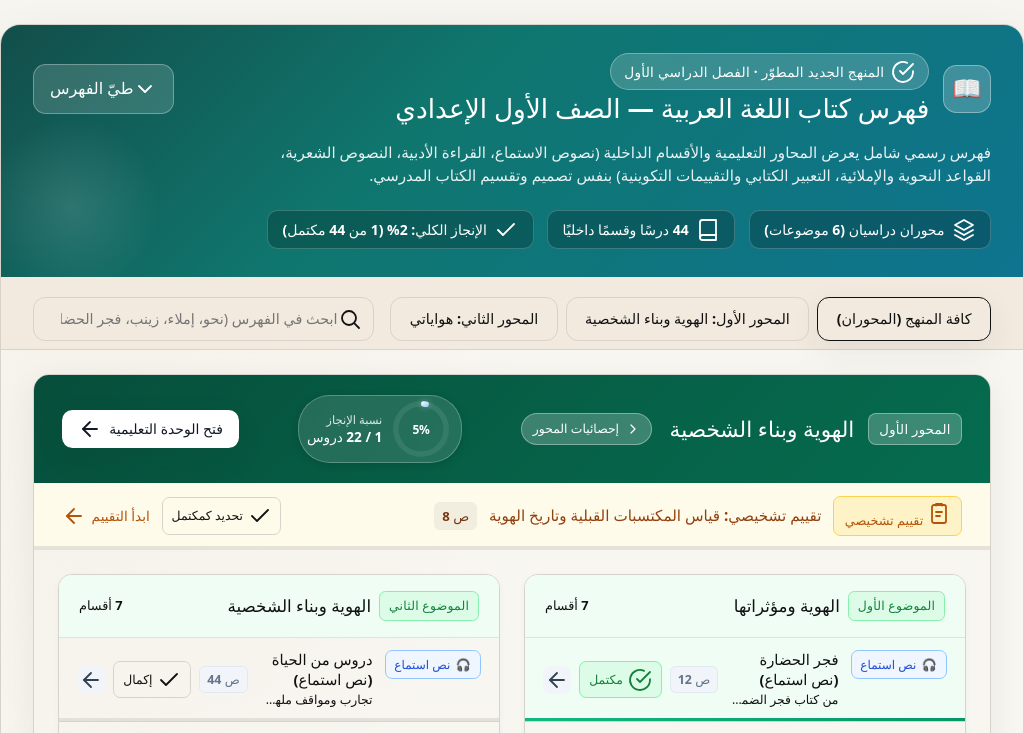
مخطط Recharts لتقدم إنجاز الدروس خلال آخر 7 أيام (Recharts Progress Line Chart) › يعكس المخطط البياني الدروس المكتملة حديثاً بدقة
The image size is (1024, 733).
Click the button with aria-label "انقر لعرض إحصائيات سريعة عن دروس المحور" at (915, 429), box [34,375,990,483]
(page scrolled)
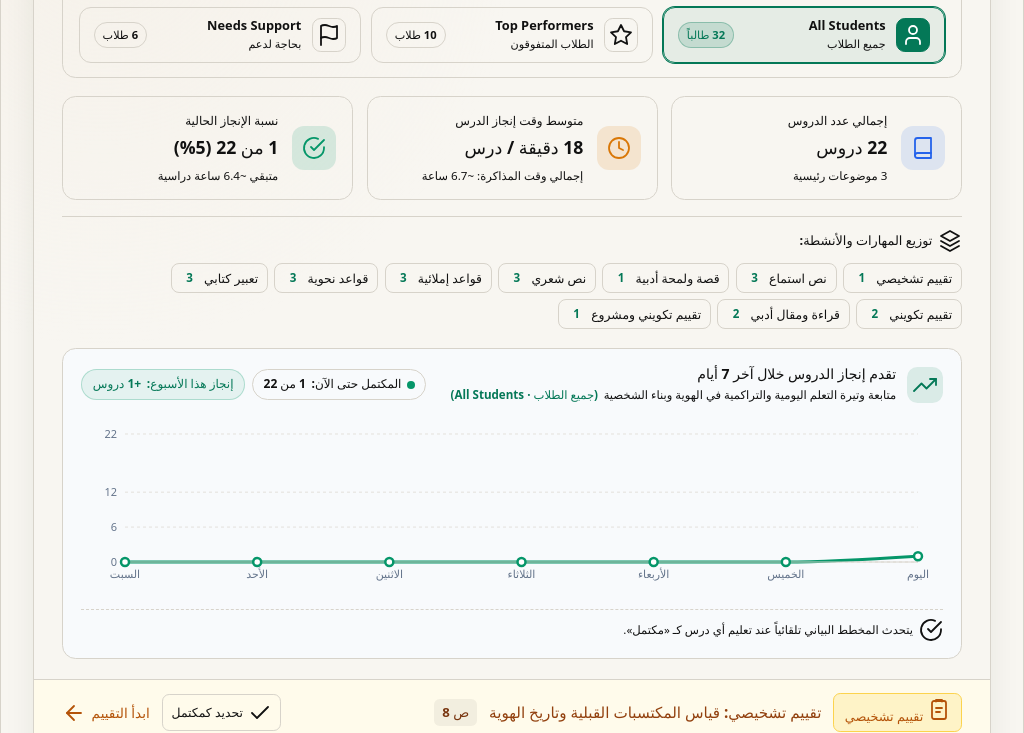
Expected: the text "المكتمل حتى الآن: 1 من 22" is shown, [252,369,426,400]
Expected: the text "إنجاز هذا الأسبوع: +1 دروس" is shown, [81,369,245,400]
